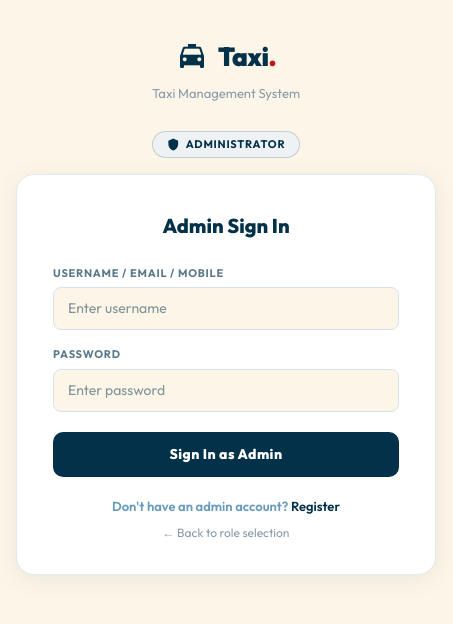
displays error message on failed admin login
The width and height of the screenshot is (453, 624).
In the field with placeholder "Enter username": (226, 309) [53, 287, 399, 330], type "admin"
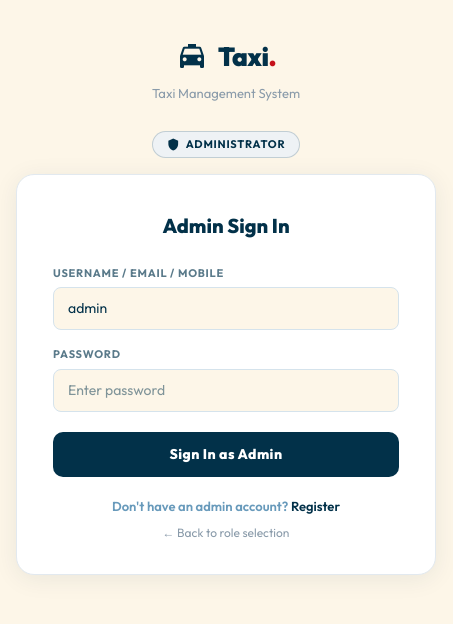
In the password field with placeholder "Enter password": (226, 390) [53, 369, 399, 412], type "wrongpass"
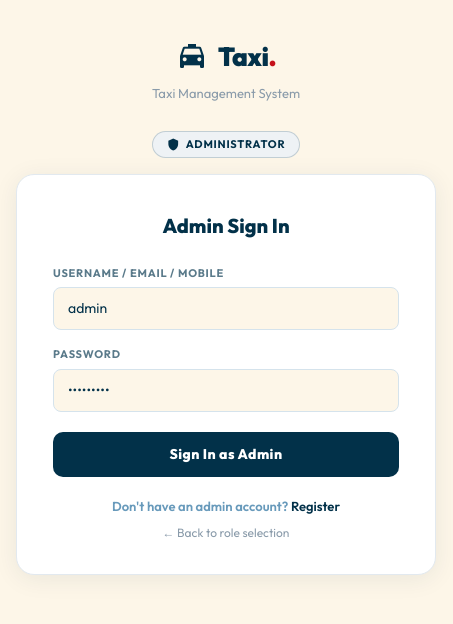
Click the button "Sign In as Admin": (226, 454) [53, 432, 399, 477]
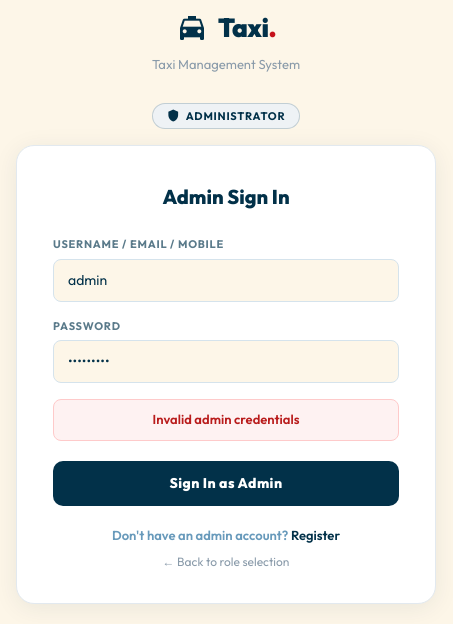
Result: the text "Invalid admin credentials" is shown at [53, 399, 399, 440]
